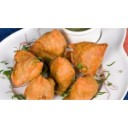samosa: (71, 41, 108, 77), (12, 48, 42, 83), (48, 57, 74, 92), (34, 30, 68, 56), (26, 77, 56, 100), (71, 76, 99, 100)
